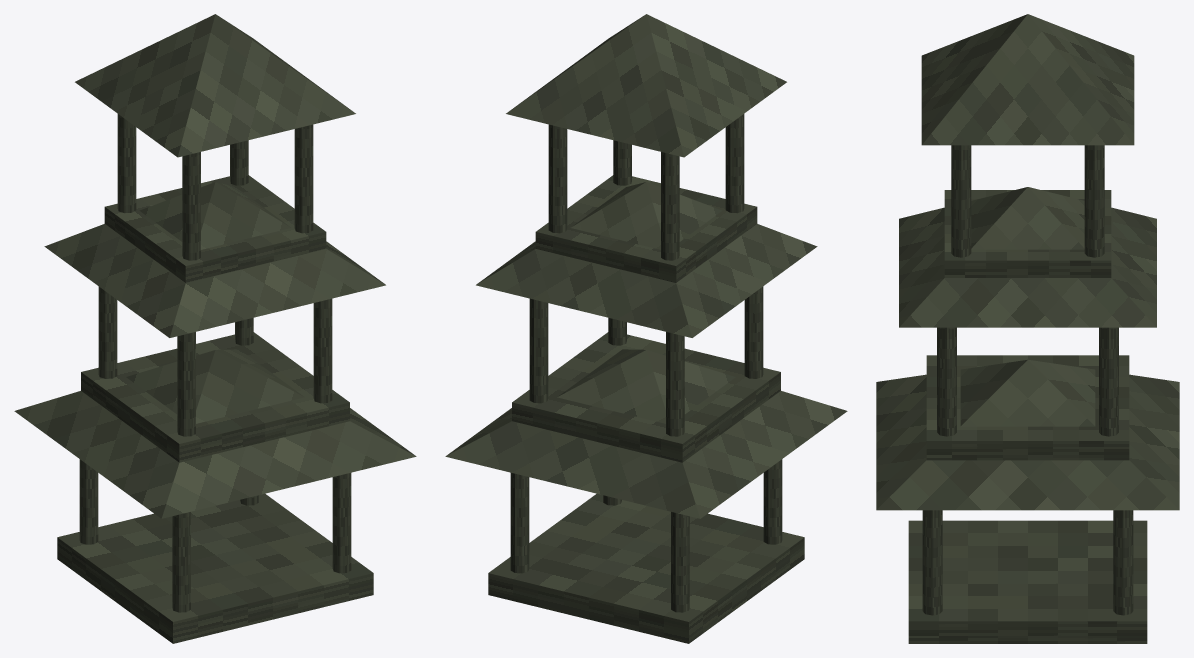
The model's file is pagoda_19.glb.
3 views of the same model, side by side, from view 1: azimuth 30°, elevation 25°; view 2: azimuth 150°, elevation 25°; view 3: azimuth 270°, elevation 25° (orthographic). The views are drawn at different scales.
Visible parts, largest first — view 1: Roof, Floor, Roof.001, Roof.002, Floor.001, Floor.002, Column.010, Column.006, Column.008, Column.002, Column.004, Column (+4 smaller); view 2: Roof, Floor, Roof.001, Roof.002, Floor.001, Floor.002, Column.011, Column.007, Column.009, Column.003, Column.005, Column.001 (+4 smaller); view 3: Roof, Floor, Roof.001, Roof.002, Floor.001, Floor.002, Column.010, Column.011, Column.002, Column.003, Column.006, Column.007.
Part boxes in pixels (bbox=[...]): Roof: bbox=[14, 349, 416, 518]; Floor: bbox=[57, 493, 373, 643]; Roof.001: bbox=[44, 182, 385, 337]; Roof.002: bbox=[75, 14, 355, 157]; Floor.001: bbox=[81, 332, 349, 462]; Floor.002: bbox=[104, 175, 326, 282]; Column.010: bbox=[294, 124, 313, 233]; Column.006: bbox=[313, 298, 332, 403]; Column.008: bbox=[182, 152, 200, 260]; Column.002: bbox=[332, 473, 351, 573]; Column.004: bbox=[177, 332, 195, 436]; Column: bbox=[172, 512, 190, 612]; Roof: bbox=[445, 349, 847, 518]; Floor: bbox=[488, 493, 804, 643]; Roof.001: bbox=[476, 182, 817, 337]; Roof.002: bbox=[506, 14, 786, 157]; Floor.001: bbox=[512, 332, 780, 462]; Floor.002: bbox=[535, 175, 757, 282]; Column.011: bbox=[548, 124, 567, 233]; Column.007: bbox=[529, 298, 548, 403]; Column.009: bbox=[661, 152, 679, 260]; Column.003: bbox=[510, 473, 529, 573]; Column.005: bbox=[666, 332, 684, 436]; Column.001: bbox=[671, 512, 689, 612]; Roof: bbox=[876, 359, 1179, 510]; Floor: bbox=[908, 520, 1147, 643]; Roof.001: bbox=[899, 187, 1156, 327]; Roof.002: bbox=[921, 14, 1134, 145]; Floor.001: bbox=[926, 355, 1129, 460]; Floor.002: bbox=[944, 190, 1111, 277]; Column.010: bbox=[951, 145, 971, 257]; Column.011: bbox=[1084, 145, 1104, 257]; Column.002: bbox=[922, 510, 942, 615]; Column.003: bbox=[1113, 510, 1133, 615]; Column.006: bbox=[937, 327, 956, 436]; Column.007: bbox=[1099, 327, 1118, 436].
Bounding box in the file's own units: 3.65 × 7.69 × 3.65.
1 material, 1 textured.
